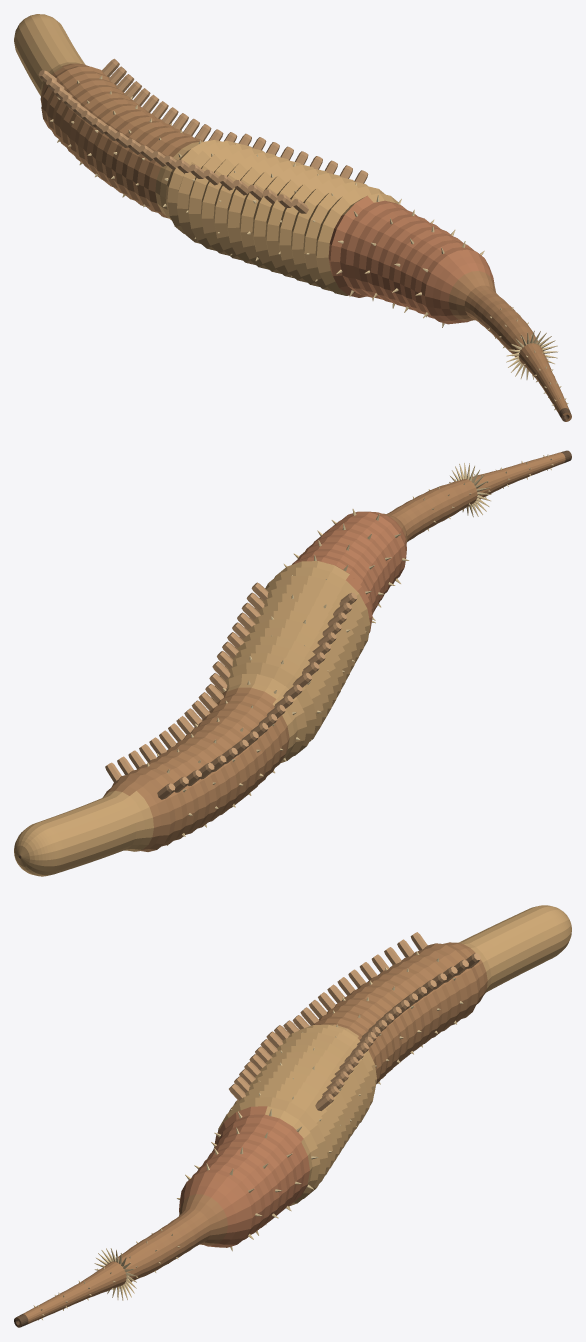
Rendered from louisella.glb.
The picture shows the model from 3 angles, top to bottom: view 1: azimuth 30°, elevation 25°; view 2: azimuth 150°, elevation 25°; view 3: azimuth 330°, elevation 25°; orthographic projection. The views are drawn at different scales.
Parts seen in each view (by area): view 1: whole_body_spiny_anterior_coarse_annular_middle_papillate_zo, two_widely_separated_dorsal_longitudinal_blunt_papilla_rows, short_trunk_spine_rings_rear_excluded, proboscis_exactly_25_long_midlength_scalids; view 2: whole_body_spiny_anterior_coarse_annular_middle_papillate_zo, two_widely_separated_dorsal_longitudinal_blunt_papilla_rows, short_trunk_spine_rings_rear_excluded, proboscis_exactly_25_long_midlength_scalids; view 3: whole_body_spiny_anterior_coarse_annular_middle_papillate_zo, two_widely_separated_dorsal_longitudinal_blunt_papilla_rows, short_trunk_spine_rings_rear_excluded, proboscis_exactly_25_long_midlength_scalids.
Part boxes in pixels (x1,y1,x2,y2): whole_body_spiny_anterior_coarse_annular_middle_papillate_zo: [14, 14, 571, 421]; two_widely_separated_dorsal_longitudinal_blunt_papilla_rows: [38, 58, 368, 213]; short_trunk_spine_rings_rear_excluded: [49, 76, 484, 327]; proboscis_exactly_25_long_midlength_scalids: [506, 330, 558, 379]; whole_body_spiny_anterior_coarse_annular_middle_papillate_zo: [14, 450, 571, 876]; two_widely_separated_dorsal_longitudinal_blunt_papilla_rows: [105, 582, 357, 799]; short_trunk_spine_rings_rear_excluded: [147, 509, 409, 845]; proboscis_exactly_25_long_midlength_scalids: [449, 463, 491, 517]; whole_body_spiny_anterior_coarse_annular_middle_papillate_zo: [14, 905, 571, 1327]; two_widely_separated_dorsal_longitudinal_blunt_papilla_rows: [229, 932, 480, 1110]; short_trunk_spine_rings_rear_excluded: [177, 951, 463, 1251]; proboscis_exactly_25_long_midlength_scalids: [94, 1248, 136, 1300].
Bounding box in the file's own units: 0.0529 × 0.0346 × 0.3006.
